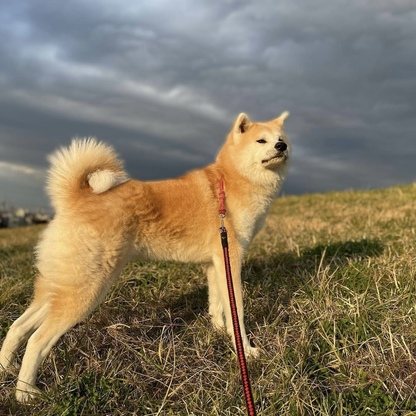akita: (1, 104, 296, 411)
